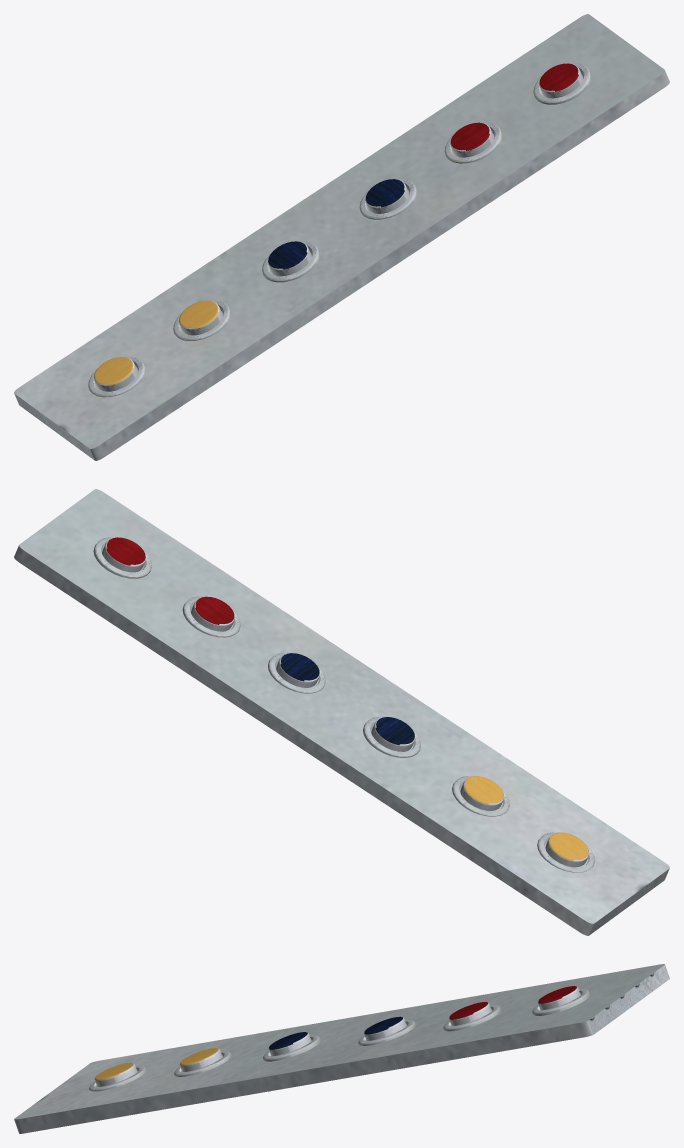
The model's file is smallbuttons.fbx.
3 renders of one model, top to bottom at view 1: azimuth 30°, elevation 25°; view 2: azimuth 150°, elevation 25°; view 3: azimuth 330°, elevation 25°, orthographic.
Visible parts, largest first — view 1: pCube150, pasted__pCylinder109, pasted__pCylinder107, pasted__pCylinder105, pasted__pCylinder110, pasted__pCylinder112, pasted__pCylinder106; view 2: pCube150, pasted__pCylinder109, pasted__pCylinder107, pasted__pCylinder105, pasted__pCylinder110, pasted__pCylinder112, pasted__pCylinder106; view 3: pCube150, pasted__pCylinder109, pasted__pCylinder107, pasted__pCylinder105, pasted__pCylinder110, pasted__pCylinder112, pasted__pCylinder106.
Part boxes in pixels (x1=…): pCube150: x1=14, y1=14, x2=669, y2=460; pasted__pCylinder109: x1=533, y1=63, x2=591, y2=104; pasted__pCylinder107: x1=262, y1=241, x2=320, y2=282; pasted__pCylinder105: x1=444, y1=122, x2=502, y2=163; pasted__pCylinder110: x1=359, y1=178, x2=417, y2=219; pasted__pCylinder112: x1=173, y1=300, x2=230, y2=340; pasted__pCylinder106: x1=88, y1=356, x2=145, y2=397; pCube150: x1=14, y1=489, x2=669, y2=935; pasted__pCylinder109: x1=93, y1=537, x2=151, y2=578; pasted__pCylinder107: x1=363, y1=716, x2=420, y2=757; pasted__pCylinder105: x1=182, y1=596, x2=240, y2=637; pasted__pCylinder110: x1=268, y1=652, x2=325, y2=693; pasted__pCylinder112: x1=452, y1=776, x2=509, y2=816; pasted__pCylinder106: x1=537, y1=832, x2=594, y2=872; pCube150: x1=14, y1=964, x2=669, y2=1133; pasted__pCylinder109: x1=532, y1=986, x2=590, y2=1015; pasted__pCylinder107: x1=263, y1=1032, x2=320, y2=1061; pasted__pCylinder105: x1=443, y1=1002, x2=500, y2=1031; pasted__pCylinder110: x1=358, y1=1016, x2=415, y2=1045; pasted__pCylinder112: x1=174, y1=1048, x2=231, y2=1076; pasted__pCylinder106: x1=89, y1=1062, x2=146, y2=1091.
Bounding box in the file's own units: 30.63 × 12.73 × 7.29.
